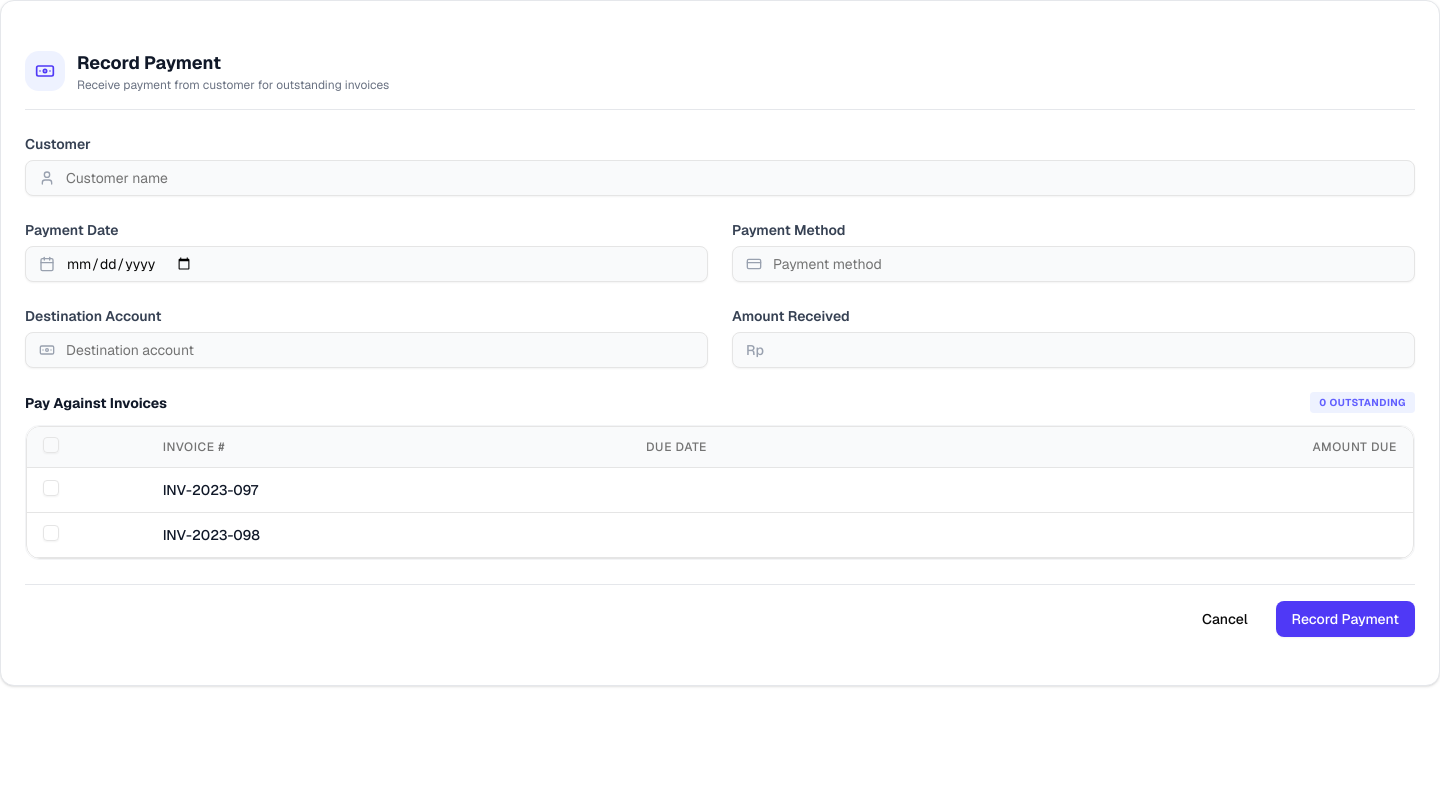
Test case: invoicing-ar create forms › renders record payment page form and toggles invoice selection
Expected: the heading "Record Payment" is shown, [77,51,221,74]
Expected: the text "Pay Against Invoices" is shown, [25,392,167,412]
Click the checkbox named "Select INV-2023-098": point(51, 532) [43,524,59,540]
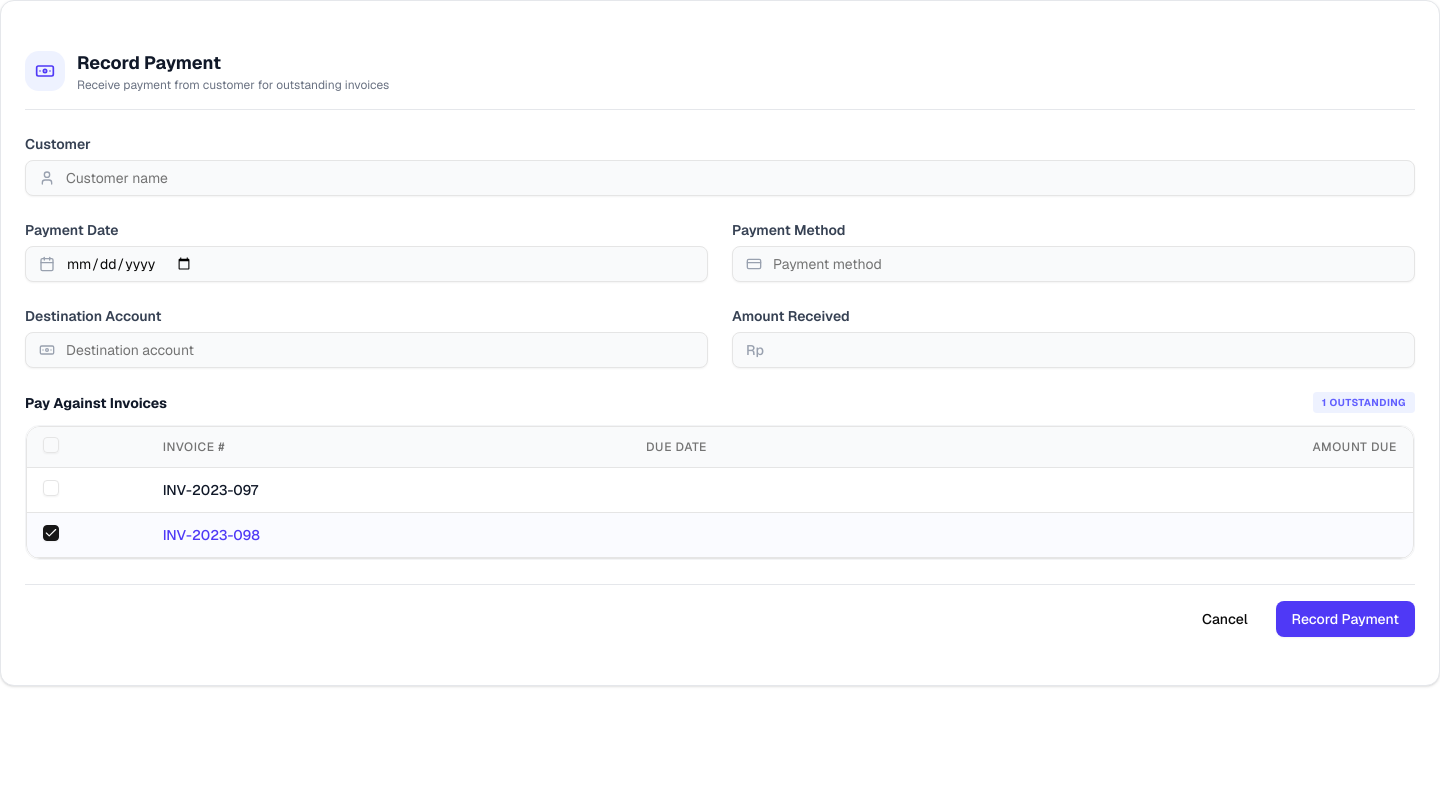
Expected: the text "1 Outstanding" is shown, [1313,392,1415,413]
